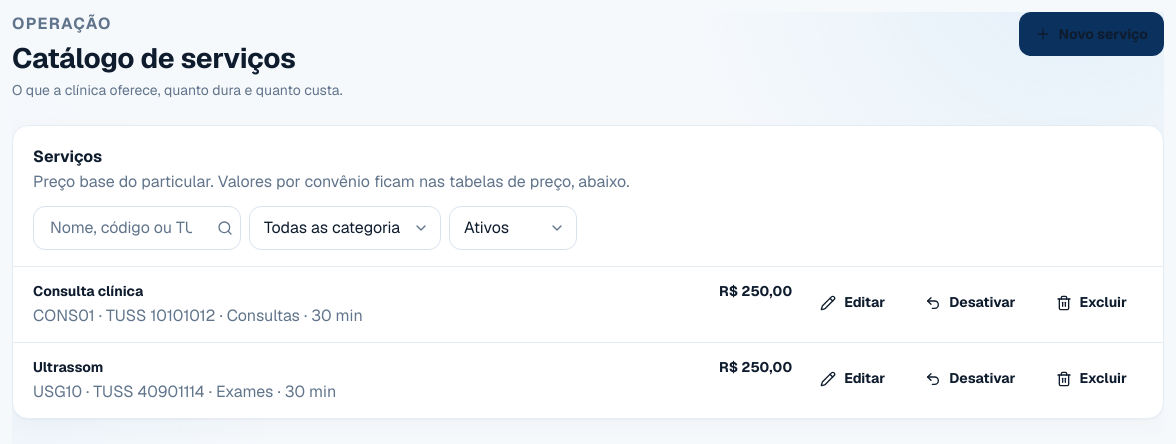
Test: busca e filtros › a busca alcança o código, não só o nome
Type "usg10" into the field named "Buscar serviço".
click(137, 228); type("usg10")  # box [33,206,241,250]
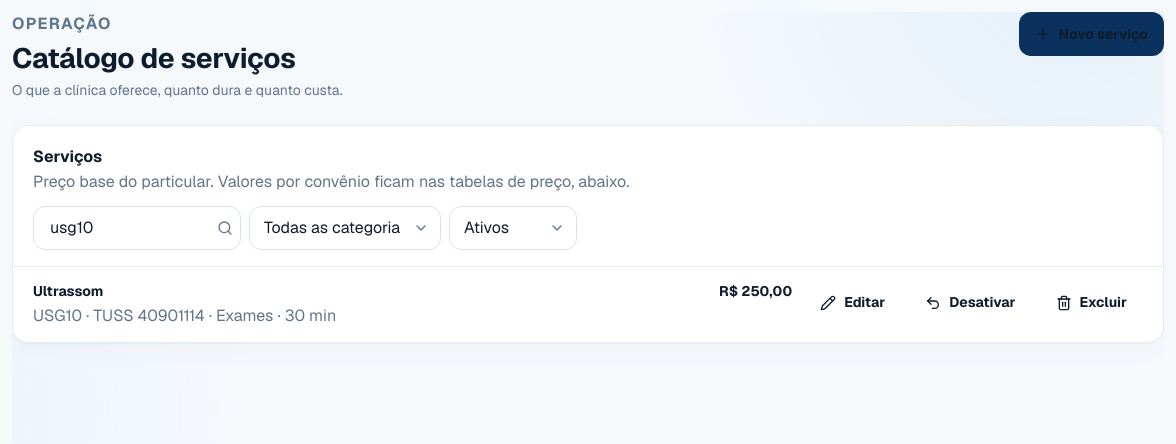
Expected: the text "Ultrassom" is shown, [33,281,103,302]
Expected: the text "Consulta clínica" is gone
